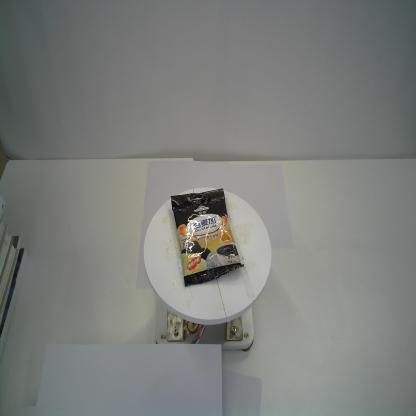Instant Drink: (171, 188, 244, 287)
